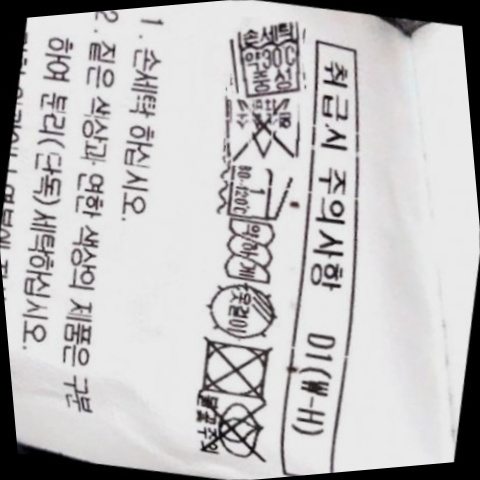DN_tumble_dry: (187, 329, 281, 407)
hand_wash: (224, 18, 313, 101)
iron_low: (218, 157, 294, 227)
line_dry_in_shade: (198, 277, 287, 345)
wring: (216, 214, 281, 289)
